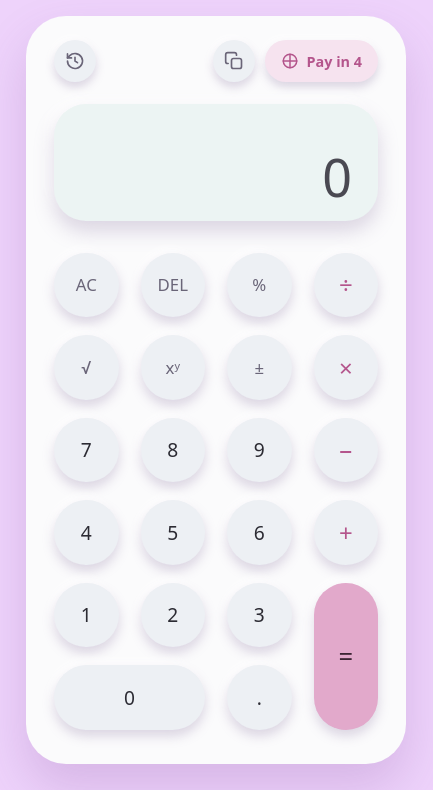
Scenario: Calculator › operator precedence › reports an error from any step
Click the button "2": (173,615) [140,583,205,647]
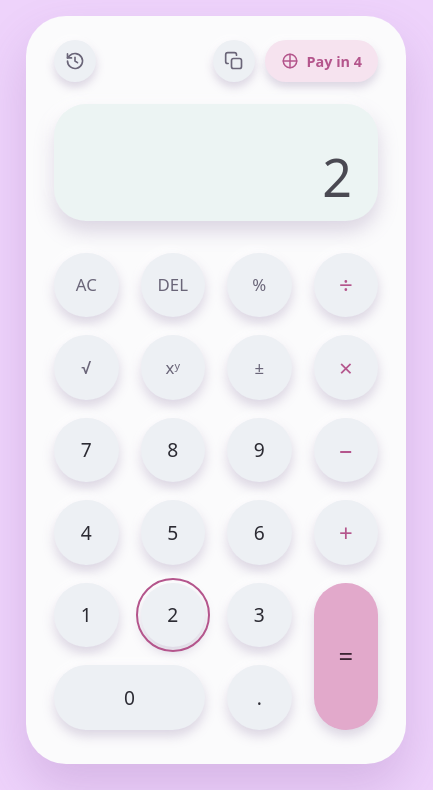
Click the button named "Add": (346,532) [314,500,378,565]
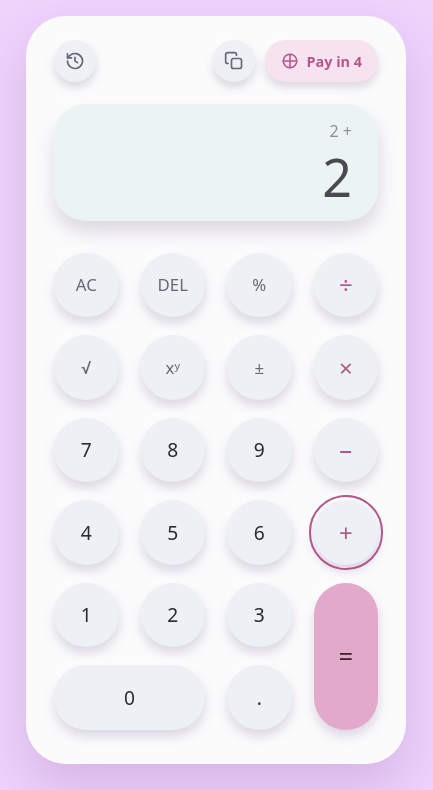
Click the button "8": (173,450) [140,418,205,482]
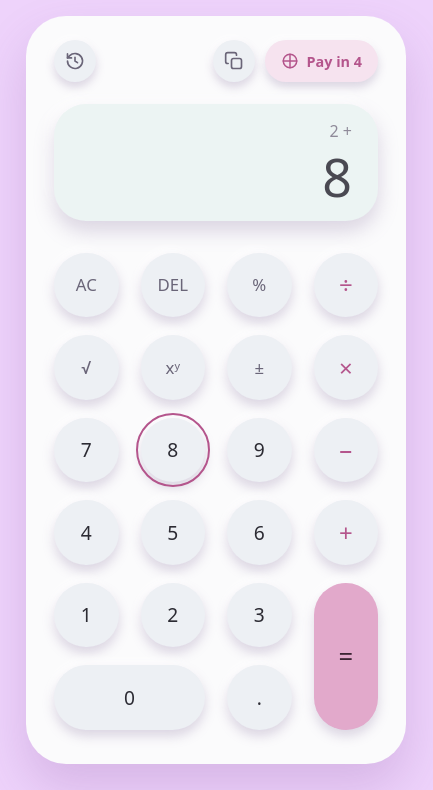
Click the button named "Divide": (346,285) [314,253,378,317]
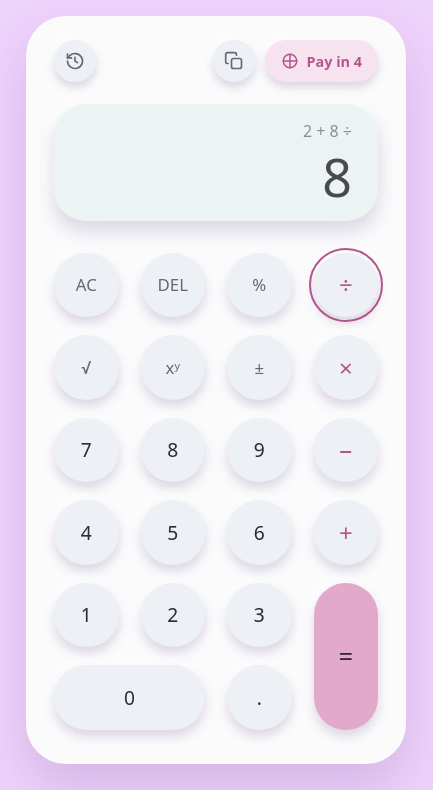
Click the button "0": (130,697) [54,665,205,730]
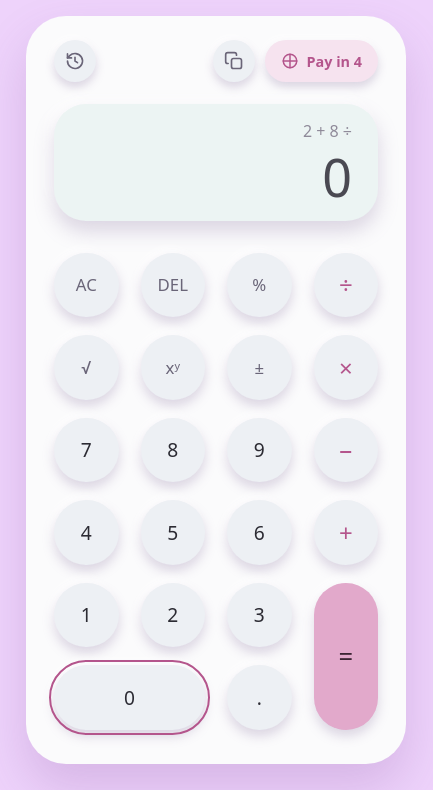
Click the button named "Equals": (346,656) [314,583,378,730]
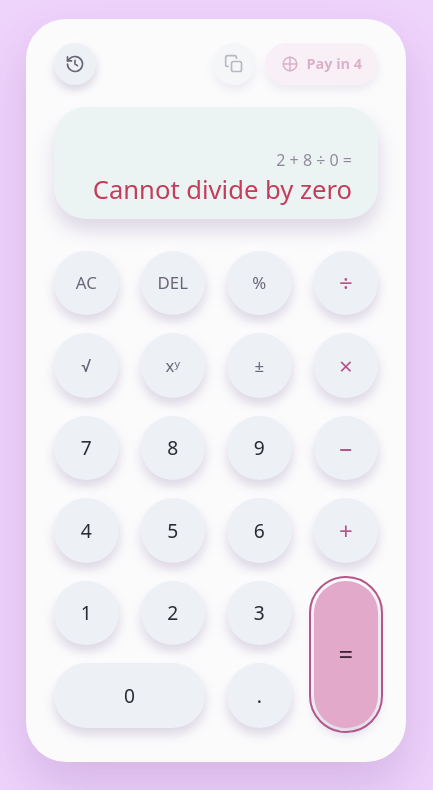
Result: the text with test id "display-value" reads "Cannot divide by zero" at [93,172,352,207]
Result: the text with test id "display-expression" reads "2 + 8 ÷ 0 =" at [276,149,352,171]
